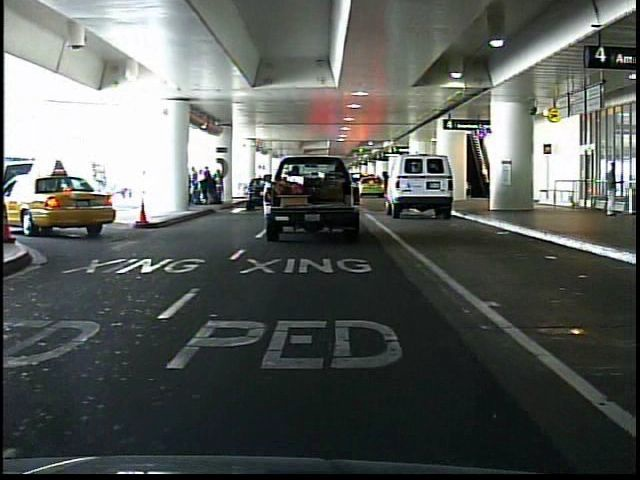person: (598, 158, 624, 219)
